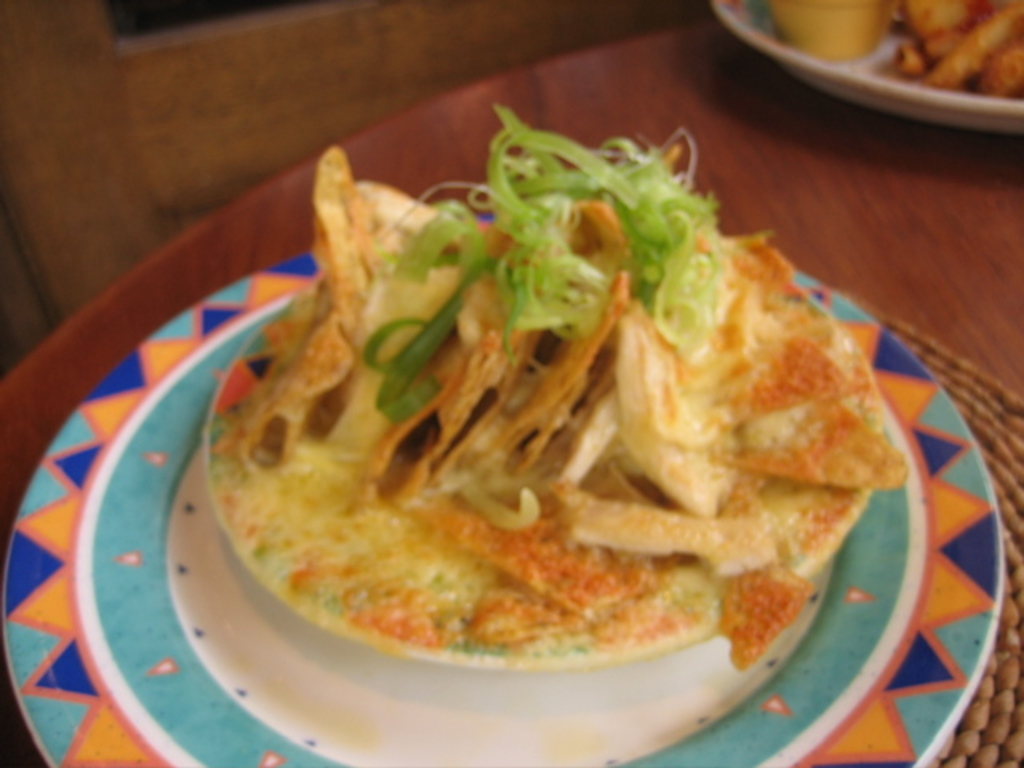salad: (205, 96, 909, 680)
